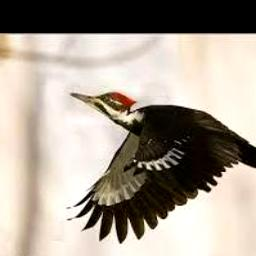Woodpecker: (66, 91, 256, 244)
